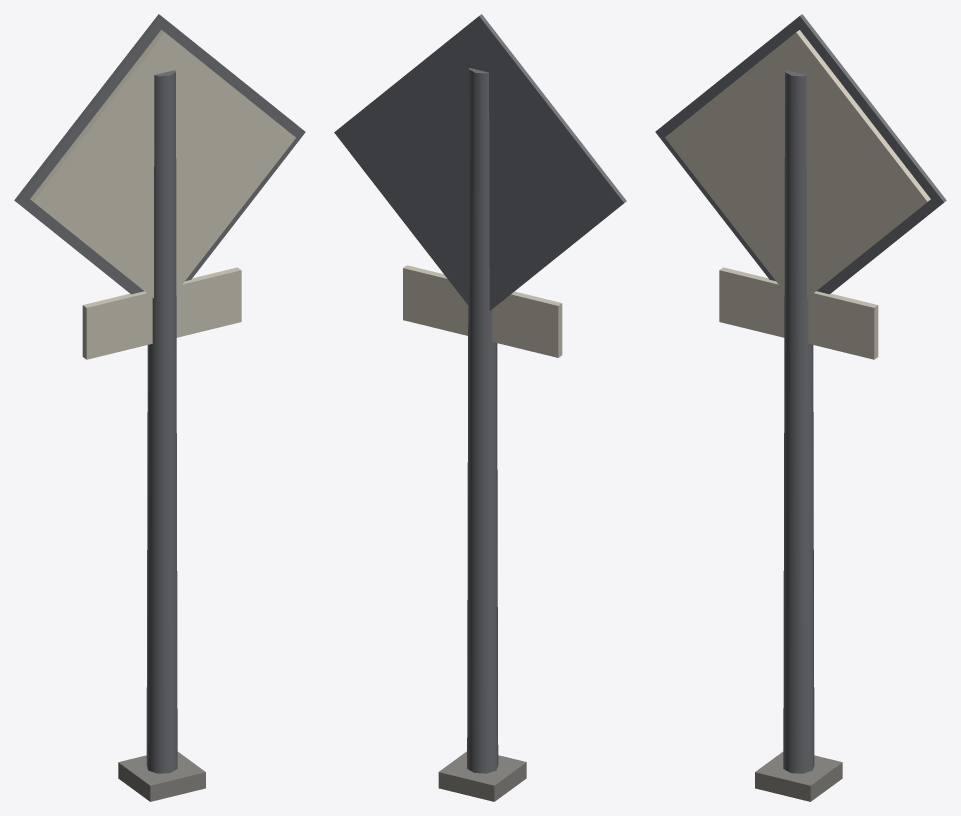
File: PRP_P1_Road_Sign_School_A.obj
The picture shows the model from 3 angles, left to right: view 1: azimuth 30°, elevation 25°; view 2: azimuth 150°, elevation 25°; view 3: azimuth 330°, elevation 25°; orthographic projection.
Parts seen in each view (by area): view 1: plate, post, sub_plate, plate_border, foot_plate; view 2: plate_border, post, sub_plate, foot_plate; view 3: plate, post, sub_plate, plate_border, foot_plate.
Part boxes in pixels (x1,y1,x2,y2): plate: (30,30,295,298); post: (146,70,177,773); sub_plate: (82,267,241,359); plate_border: (14,14,305,294); foot_plate: (118,752,205,801); plate_border: (334,14,626,310); post: (467,68,498,773); sub_plate: (403,265,562,357); foot_plate: (438,751,526,801); plate: (665,30,930,297); post: (783,70,814,773); sub_plate: (719,267,878,359); plate_border: (655,14,946,294); foot_plate: (755,752,842,801).
Bounding box in the file's own units: 0.9334 × 2.37 × 0.18.
